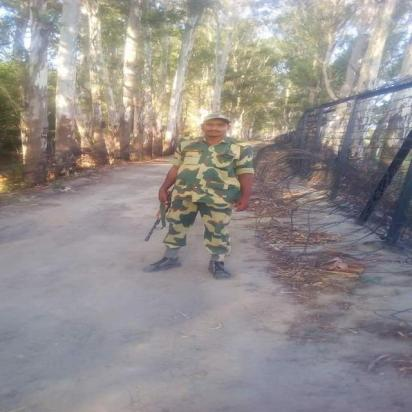Gun: (143, 185, 176, 243)
